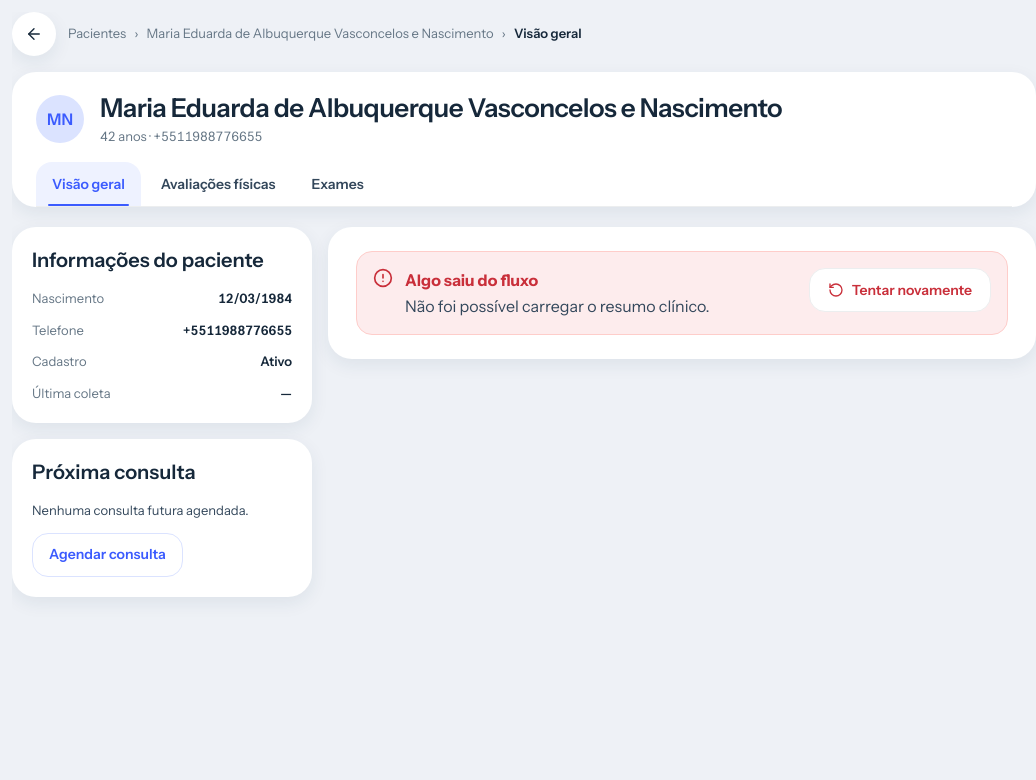
erro do resumo mantém contexto e permite tentar novamente
expect the text "Não foi possível carregar o resumo clínico." is shown: met, box [405, 296, 710, 316]
expect the heading "Maria Eduarda de Albuquerque Vasconcelos e Nascimento" is shown: met, box [100, 92, 782, 124]
Click the button "Tentar novamente".
click(900, 290)  # box [809, 268, 991, 312]
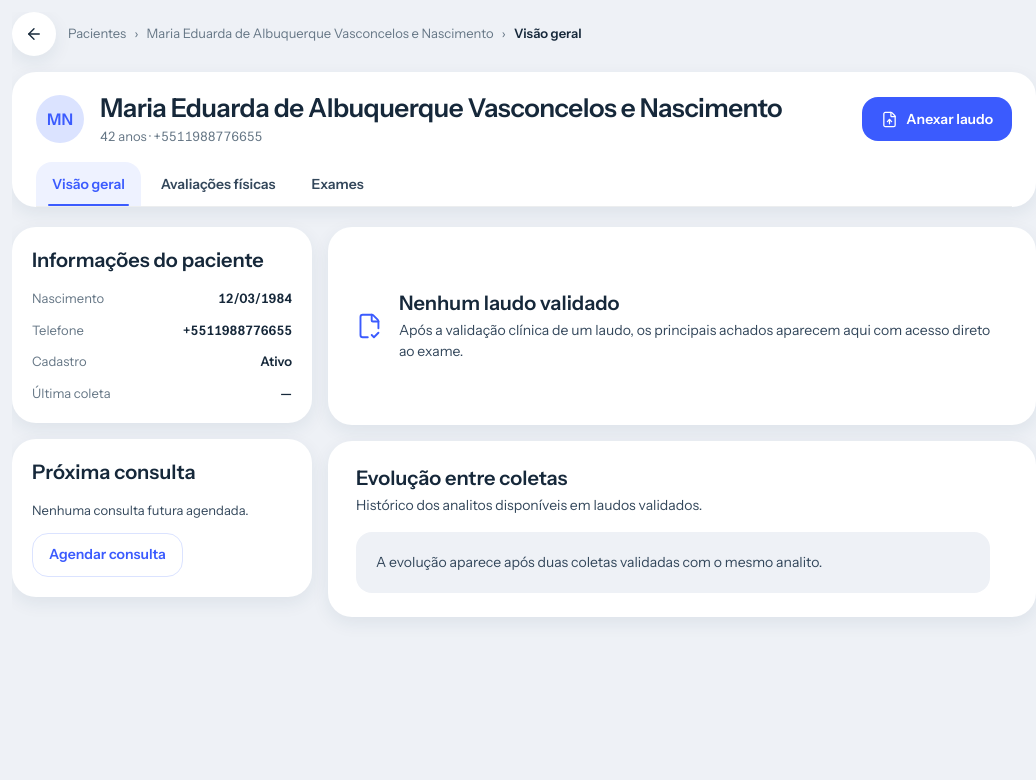
expect the heading "Nenhum laudo validado" is shown: met, box [399, 291, 620, 315]
